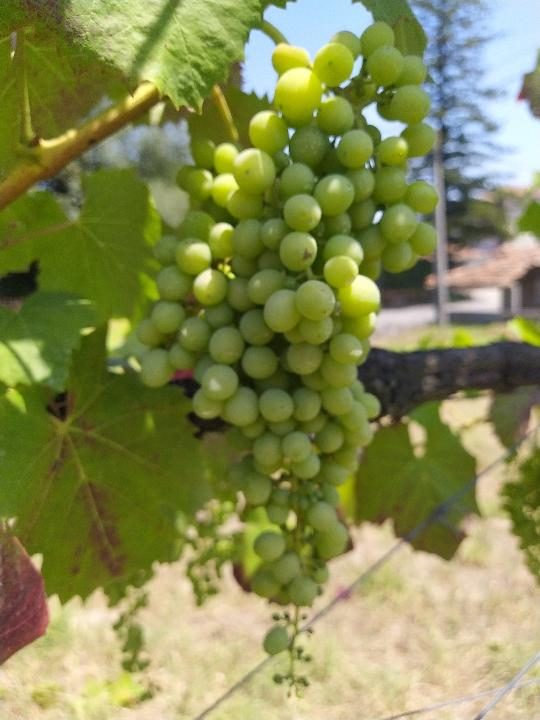grape: (138, 13, 444, 705)
